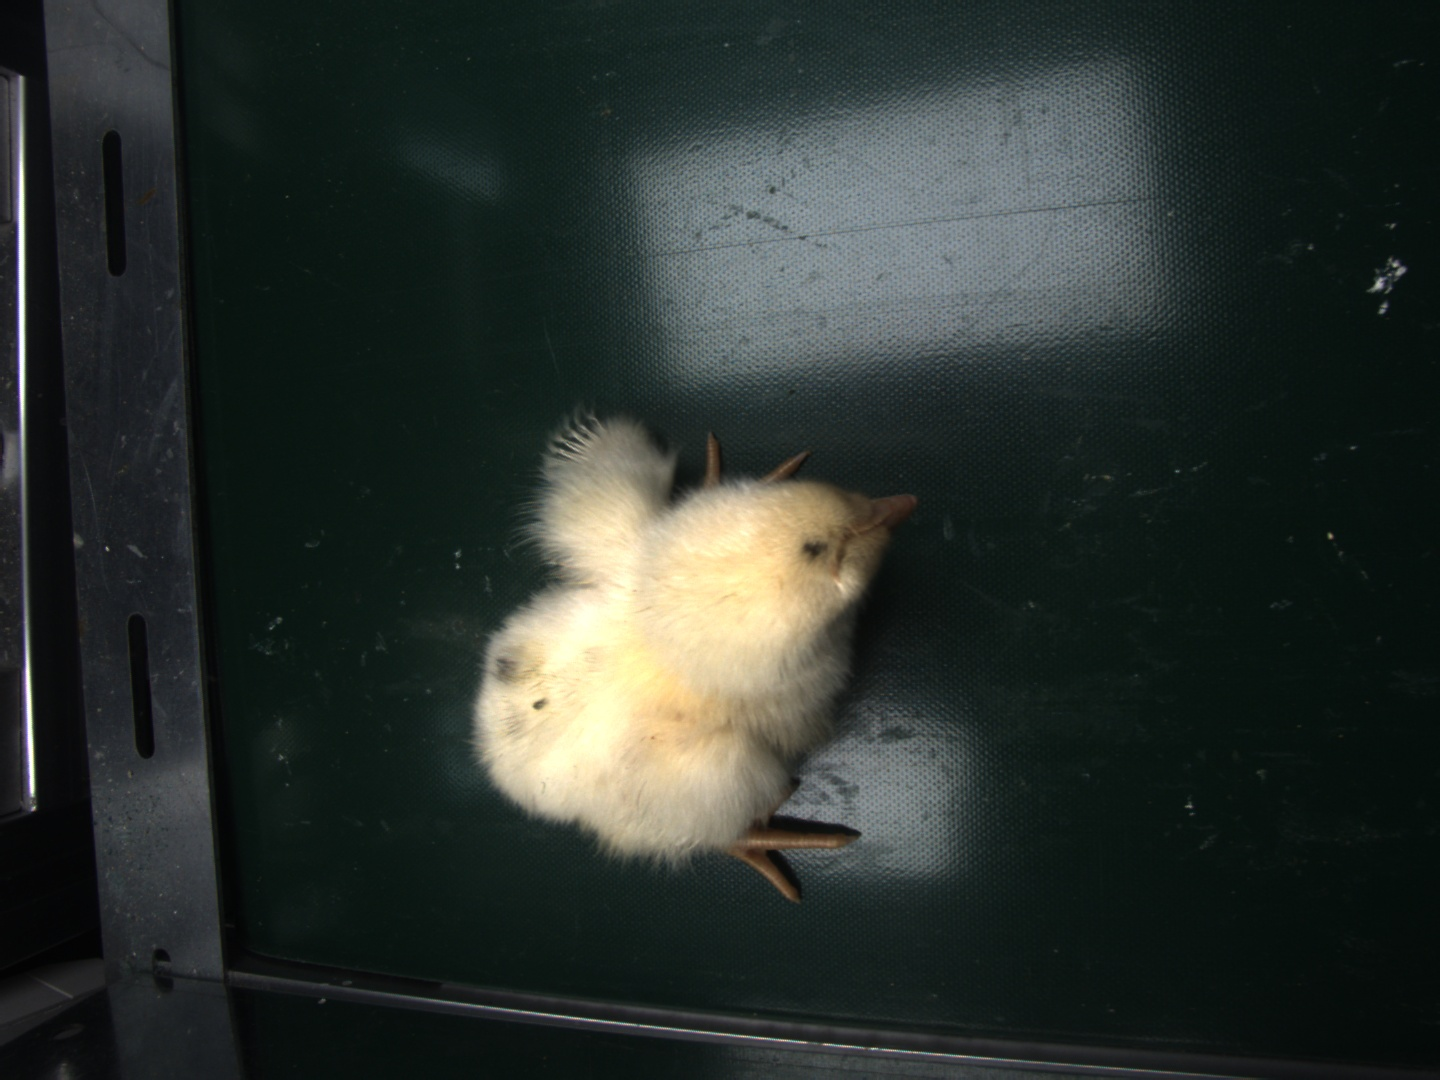male: (554, 420, 605, 466)
